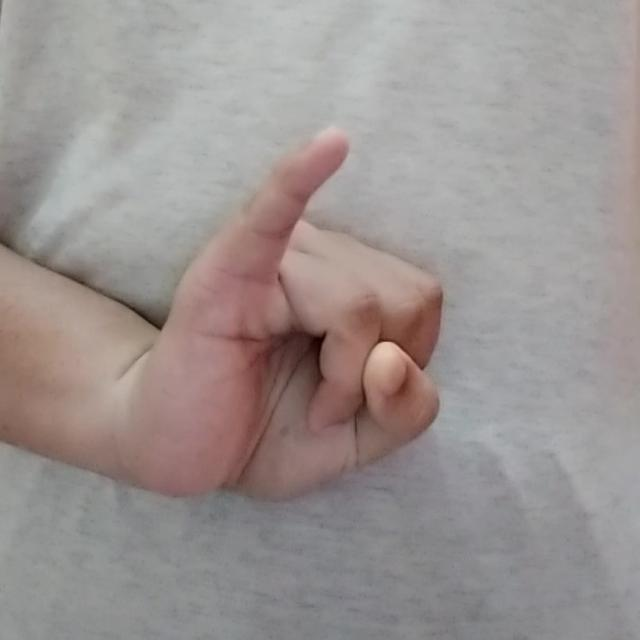I: (124, 116, 458, 510)
